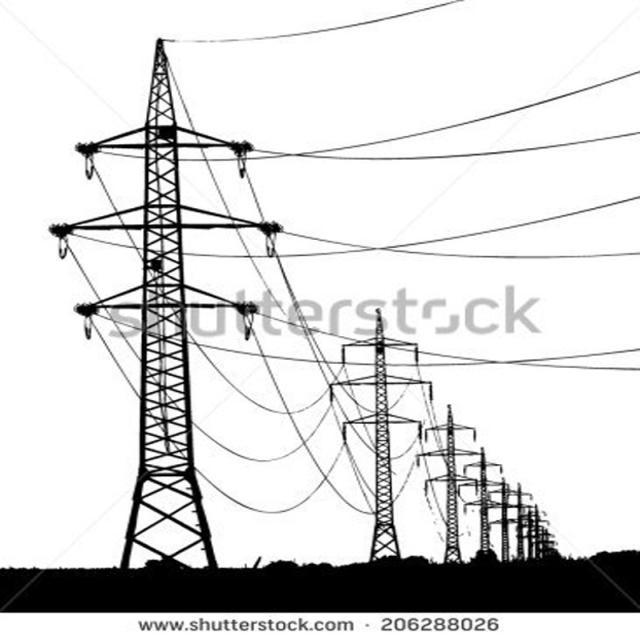non-critical vegetation: (44, 26, 294, 564), (317, 296, 429, 562), (416, 400, 474, 562)
